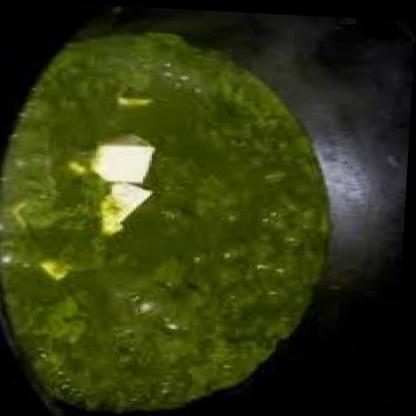palak_paneer: (0, 25, 341, 416)
